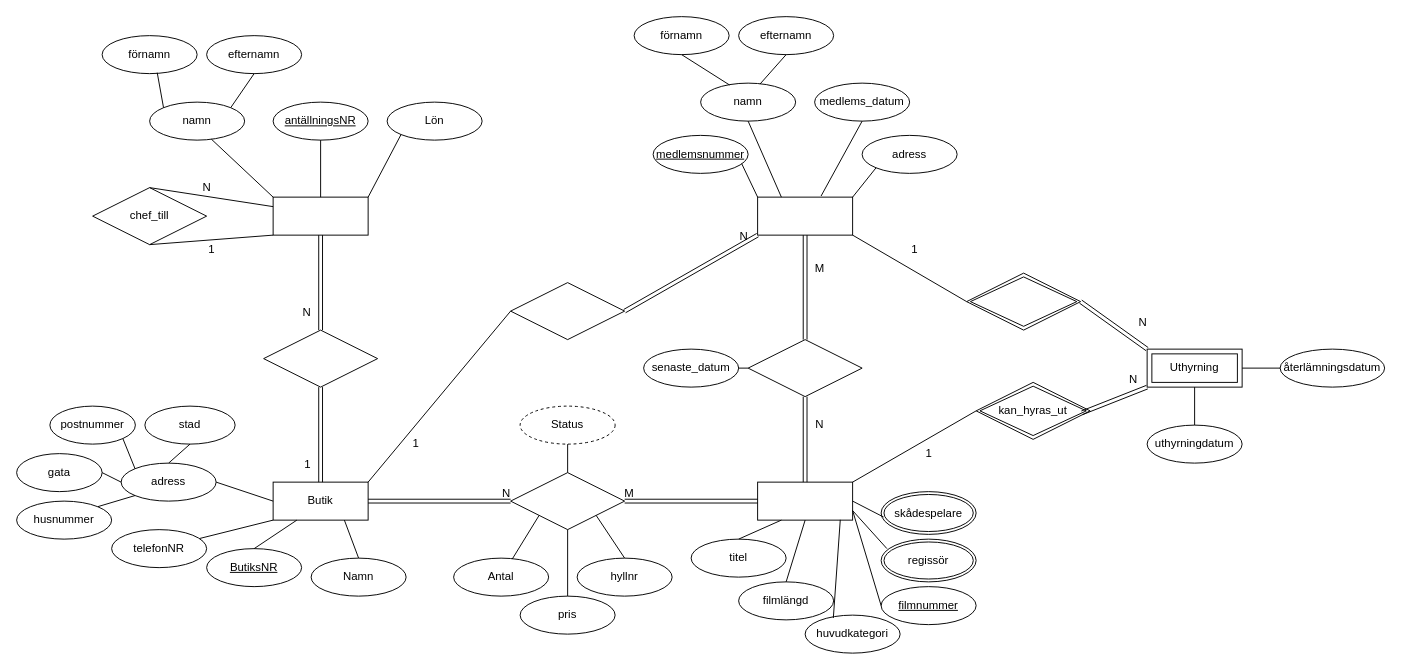
The diagram is 1401 pixels wide and 670 high, and some of its shapes have lost their labels. Each missing label, with the centre of its shape:
Anställd: the point at 320,215
Film: the point at 805,500
Har: the point at 567,501
hyrs_ut_till: the point at 1023,301
jobbar_i: the point at 320,358
kan_reservera: the point at 804,368
Medlem: the point at 805,215
medlem_hos: the point at 567,311
